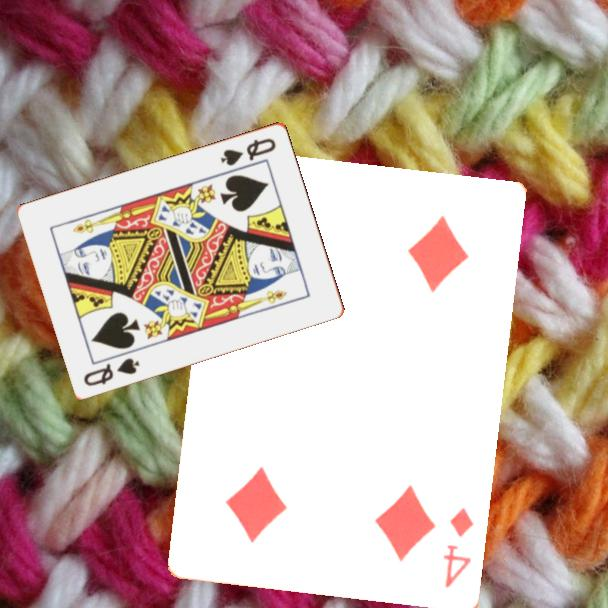d04: (440, 504, 477, 591)
s12: (80, 354, 143, 389), (217, 134, 279, 168)
